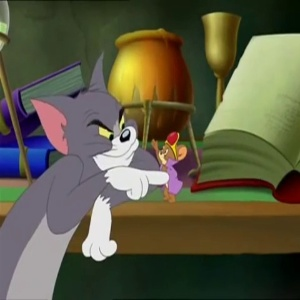Jerry: (157, 128, 188, 165)
Tom: (27, 55, 140, 169)
